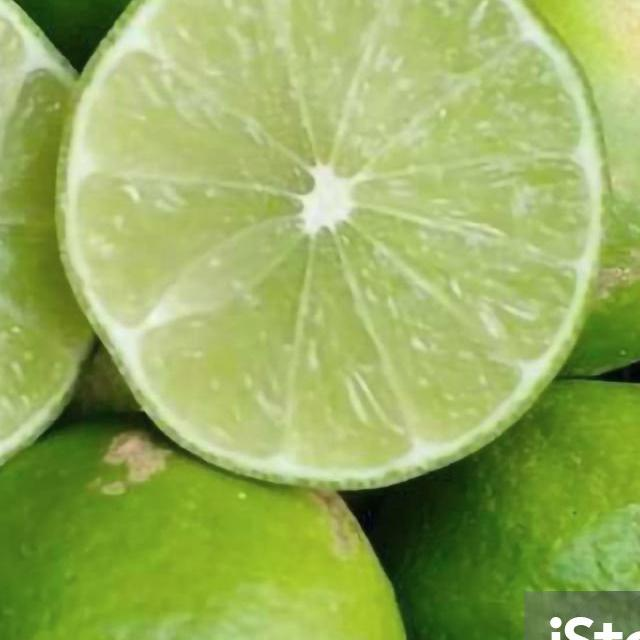lime: (0, 417, 410, 640)
